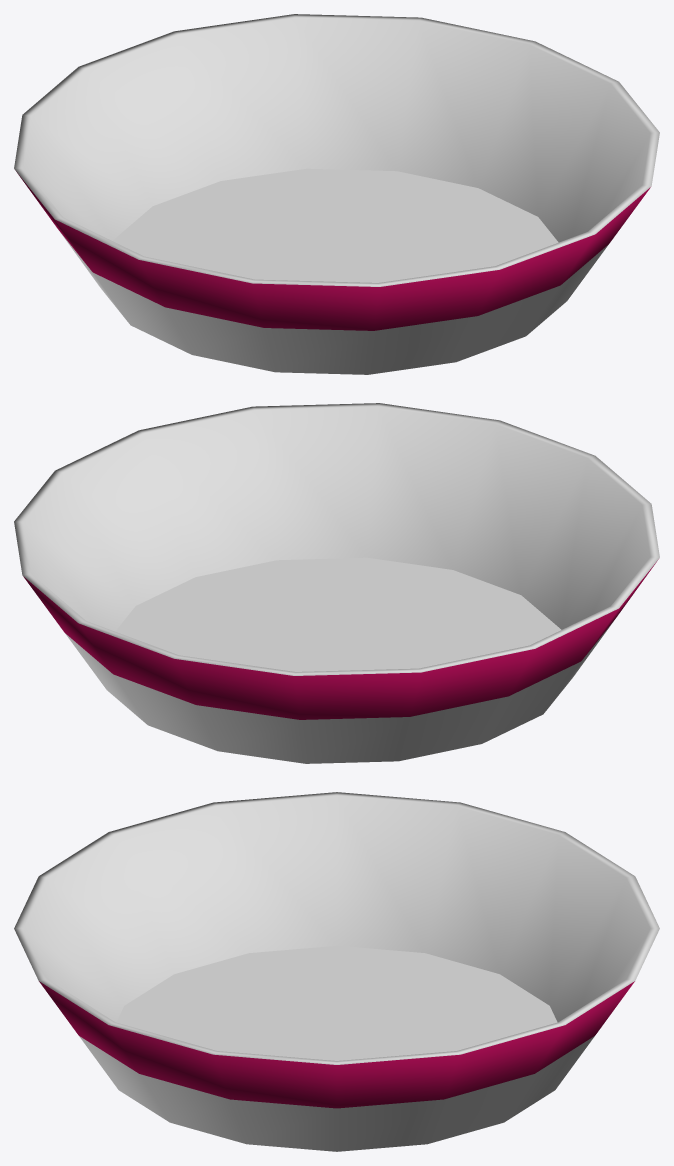
Rendered from piring .fbx.
3 views of the same model, one above another, from view 1: azimuth 30°, elevation 25°; view 2: azimuth 150°, elevation 25°; view 3: azimuth 270°, elevation 25° (orthographic).
Visible parts, largest first — view 1: Circle.004; view 2: Circle.004; view 3: Circle.004.
Part boxes in pixels (bbox=[...]): Circle.004: bbox=[14, 14, 659, 374]; Circle.004: bbox=[14, 403, 659, 763]; Circle.004: bbox=[14, 792, 659, 1151].
Size of the model in its own units: 280 by 59.13 by 280.
